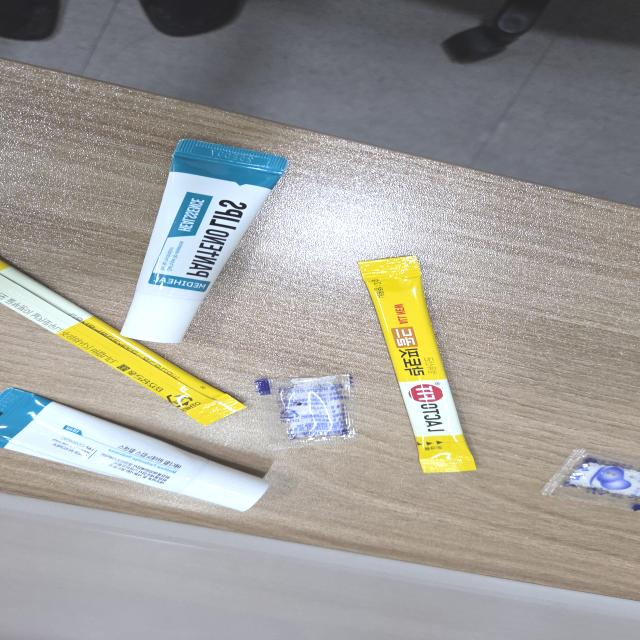lacto: (0, 253, 249, 426), (358, 253, 478, 477)
lib: (0, 386, 280, 513), (119, 139, 290, 344)
salt: (254, 372, 364, 452), (537, 447, 639, 514)
